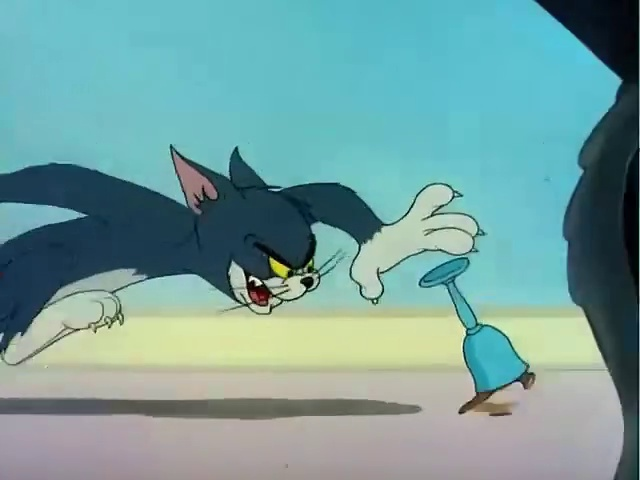tom: (2, 113, 480, 386)
